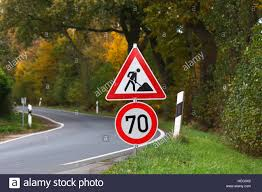Speed_limit_70km: (114, 102, 159, 146)
